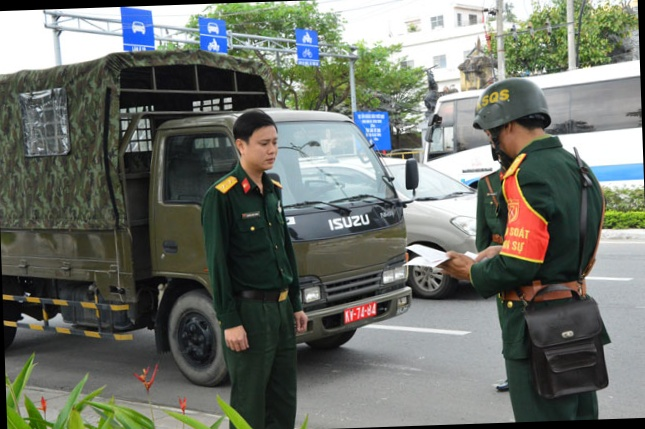plate: (339, 301, 377, 323)
